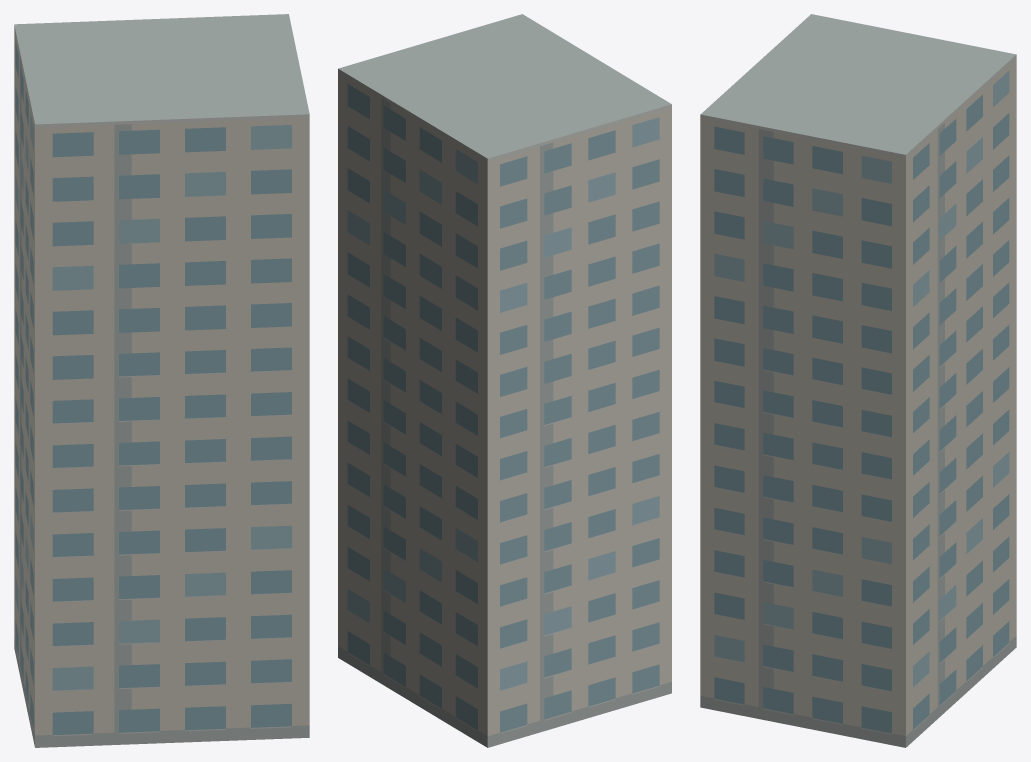
The model's file is residential-a5cb4c8b-f157-42bb-af10-d967bae36c6c.glb.
The picture shows the model from 3 angles, left to right: view 1: azimuth 30°, elevation 25°; view 2: azimuth 150°, elevation 25°; view 3: azimuth 270°, elevation 25°; orthographic projection. The views are drawn at different scales.
Visible parts, largest first — view 1: residential-a5cb4c8b-f157-42bb-af10-d967bae36c6c.tmp; view 2: residential-a5cb4c8b-f157-42bb-af10-d967bae36c6c.tmp; view 3: residential-a5cb4c8b-f157-42bb-af10-d967bae36c6c.tmp.
Part boxes in pixels (left/top/right/bottom): residential-a5cb4c8b-f157-42bb-af10-d967bae36c6c.tmp: left=14, top=14, right=309, bottom=747; residential-a5cb4c8b-f157-42bb-af10-d967bae36c6c.tmp: left=338, top=14, right=671, bottom=747; residential-a5cb4c8b-f157-42bb-af10-d967bae36c6c.tmp: left=700, top=14, right=1016, bottom=747.
Size of the model in its own units: 23.96 by 47 by 22.71.
